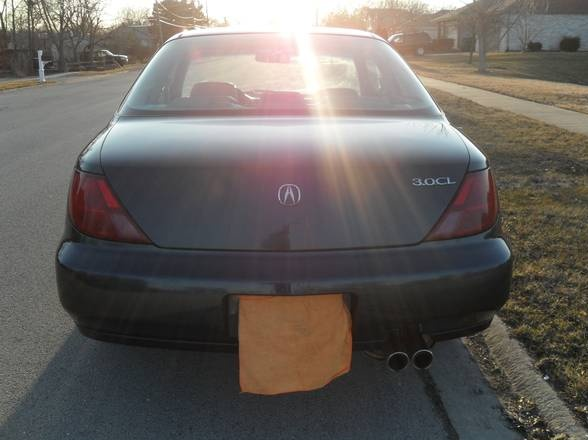acura: (45, 21, 518, 401)
